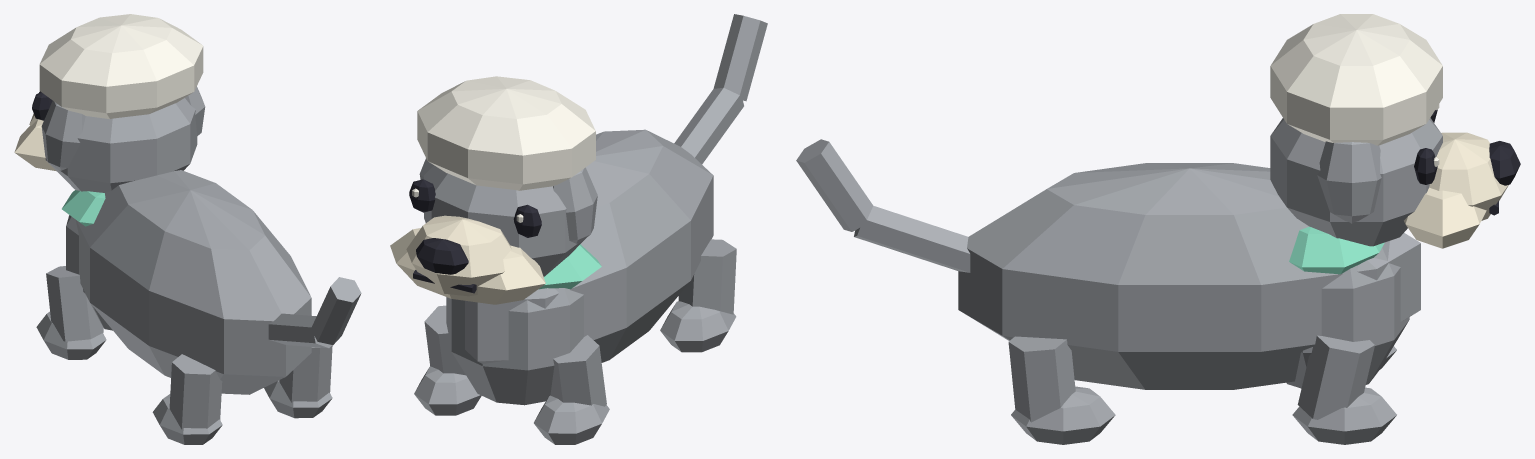
File: dandie_dinmont_terrier.glb
The picture shows the model from 3 angles, left to right: view 1: azimuth 30°, elevation 25°; view 2: azimuth 150°, elevation 25°; view 3: azimuth 270°, elevation 25°; orthographic projection. The views are drawn at different scales.
Parts seen in each view (by area): view 1: BodyMesh, HeadMesh; view 2: BodyMesh, HeadMesh; view 3: BodyMesh, HeadMesh.
Part boxes in pixels (x1,y1,x2,y2): BodyMesh: (36, 170, 361, 444); HeadMesh: (14, 14, 205, 192); BodyMesh: (414, 14, 767, 444); HeadMesh: (390, 76, 597, 304); BodyMesh: (796, 139, 1420, 444); HeadMesh: (1270, 14, 1520, 248).
Size of the model in its own units: 0.486 by 0.875 by 1.52.
